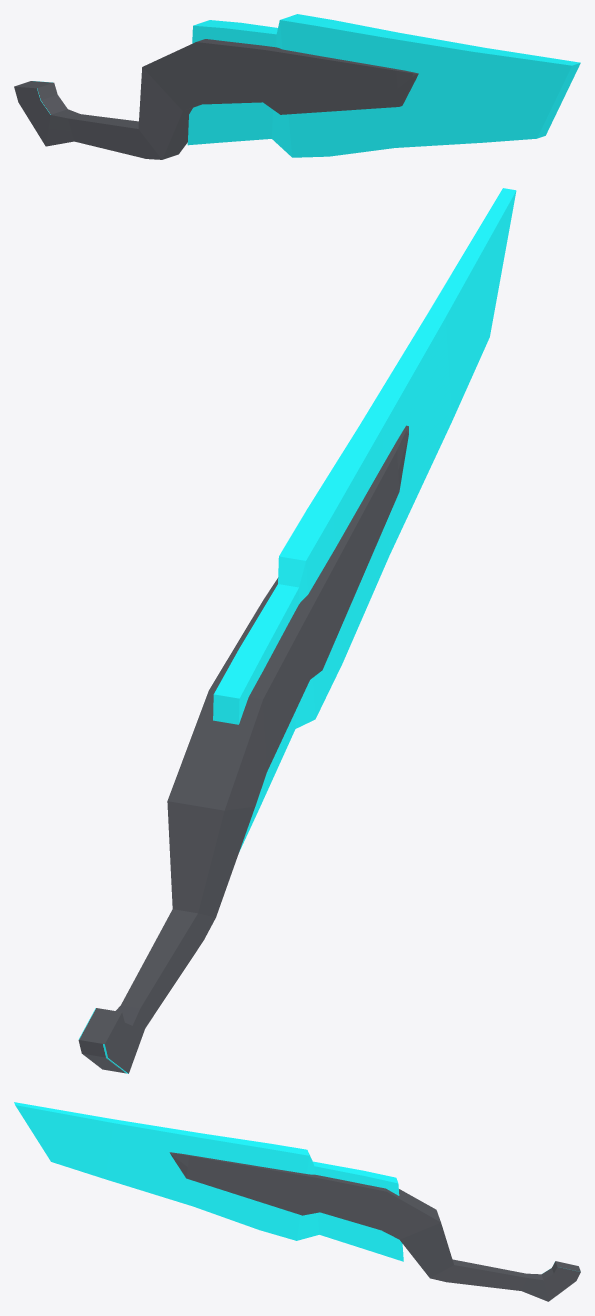
The model's file is sword.glb.
3 views of the same model, one above another, from view 1: azimuth 30°, elevation 25°; view 2: azimuth 150°, elevation 25°; view 3: azimuth 270°, elevation 25° (orthographic). The views are drawn at different scales.
Visible parts, largest first — view 1: blade, handle; view 2: handle, blade; view 3: blade, handle.
Part boxes in pixels (box(x1,y1,x2,y2)): blade: box(187, 14, 580, 157); handle: box(14, 39, 418, 159); handle: box(78, 425, 408, 1073); blade: box(213, 188, 516, 851); blade: box(14, 1102, 403, 1261); handle: box(169, 1152, 580, 1301).
Bounding box in the file's own units: 0.3166 × 0.8372 × 1.88.
Materials: 2 (2 with a texture image).
